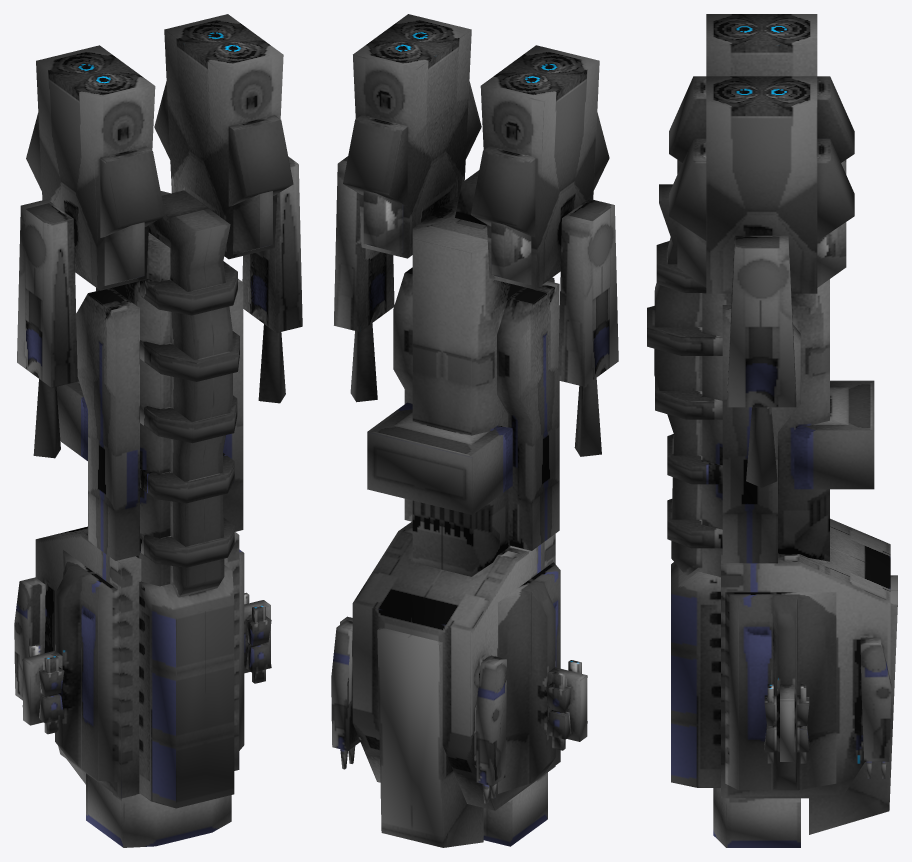
File: blue_spaceship_01.fbx
3 views of the same model, side by side, from view 1: azimuth 30°, elevation 25°; view 2: azimuth 150°, elevation 25°; view 3: azimuth 270°, elevation 25° (orthographic).
Parts seen in each view (by area): view 1: FedCruiserMod; view 2: FedCruiserMod; view 3: FedCruiserMod.
Boxes of the visible parts, x1,y1,x2,y2 form: FedCruiserMod: (14,14,302,847); FedCruiserMod: (331,14,618,847); FedCruiserMod: (647,14,897,847).
Bounding box in the file's own units: 2701 × 2334 × 7815.
